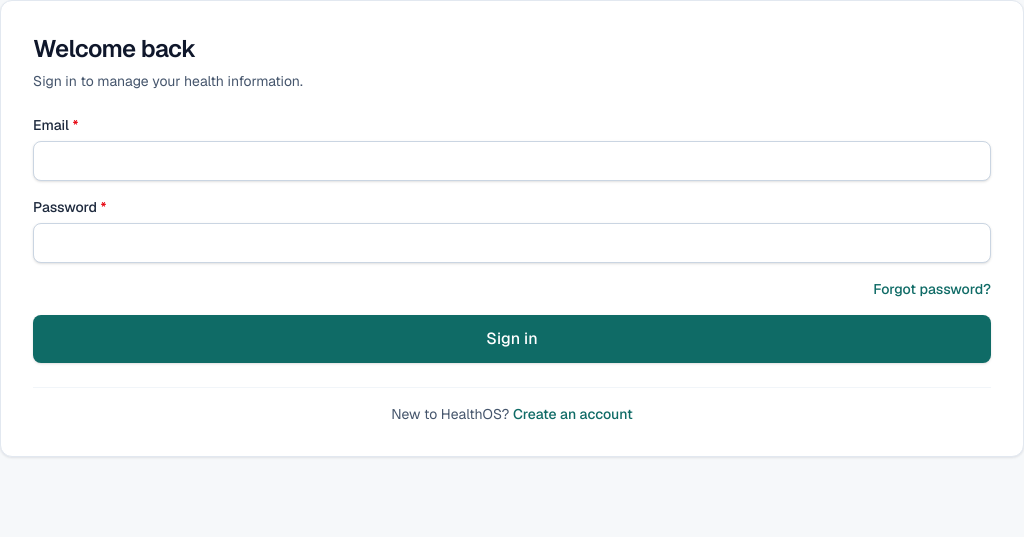
Scenario: LoginForm › shows a generic message for bad credentials
Step 1. Type "alice@example.com" into the field labelled "Email *" → coordinates (512, 161), box [33, 141, 991, 181]
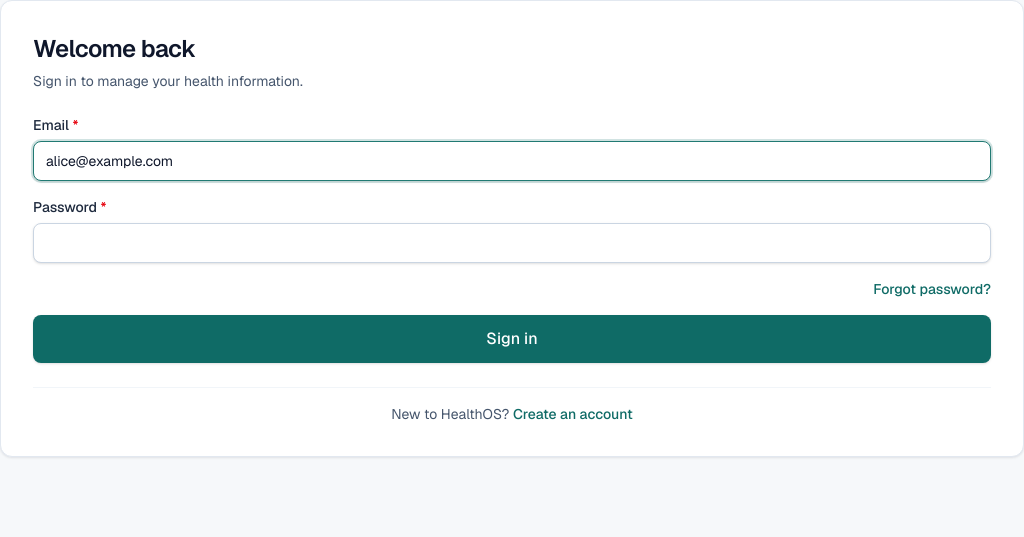
Step 2. Type "Correct-Horse-1" into the password field labelled "Password *" → coordinates (512, 243), box [33, 223, 991, 263]
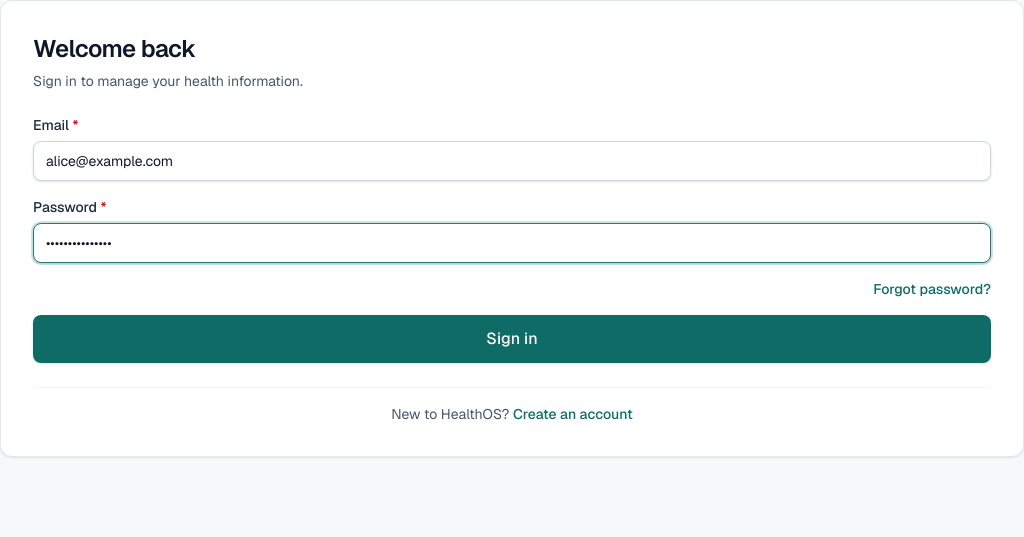
Step 3. Click the button "Sign in" → coordinates (512, 339), box [33, 315, 991, 363]
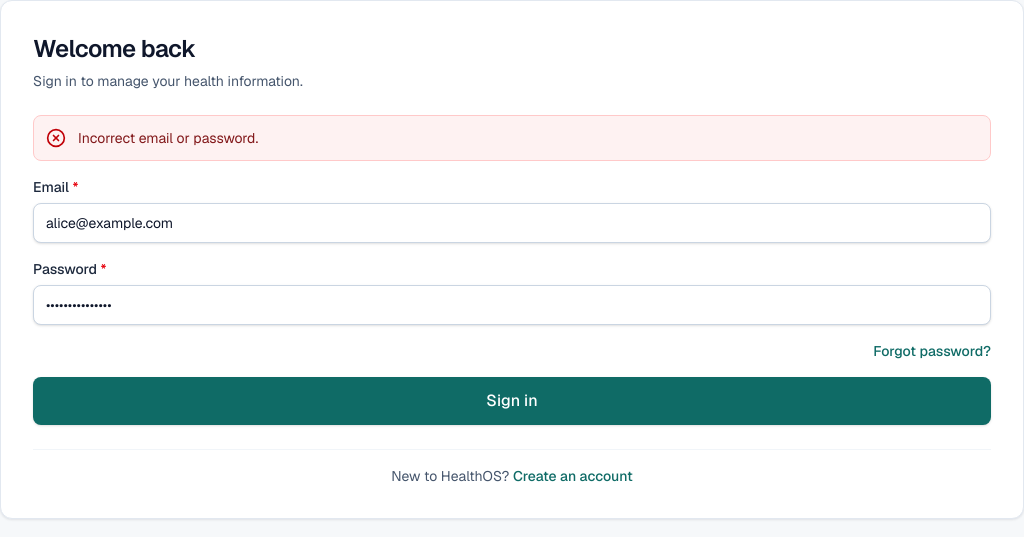
Check: the message reads "Incorrect email or password.", box [78, 129, 258, 147]
